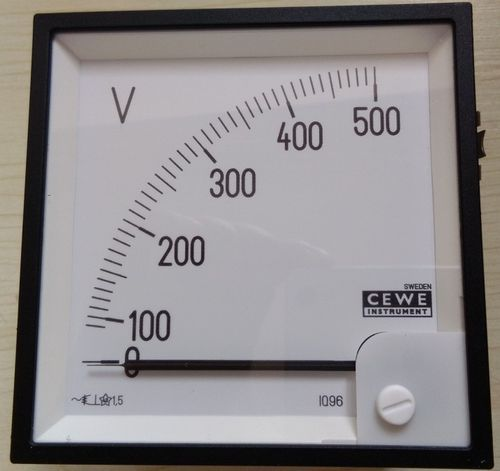pointer: (35, 24, 469, 446)
